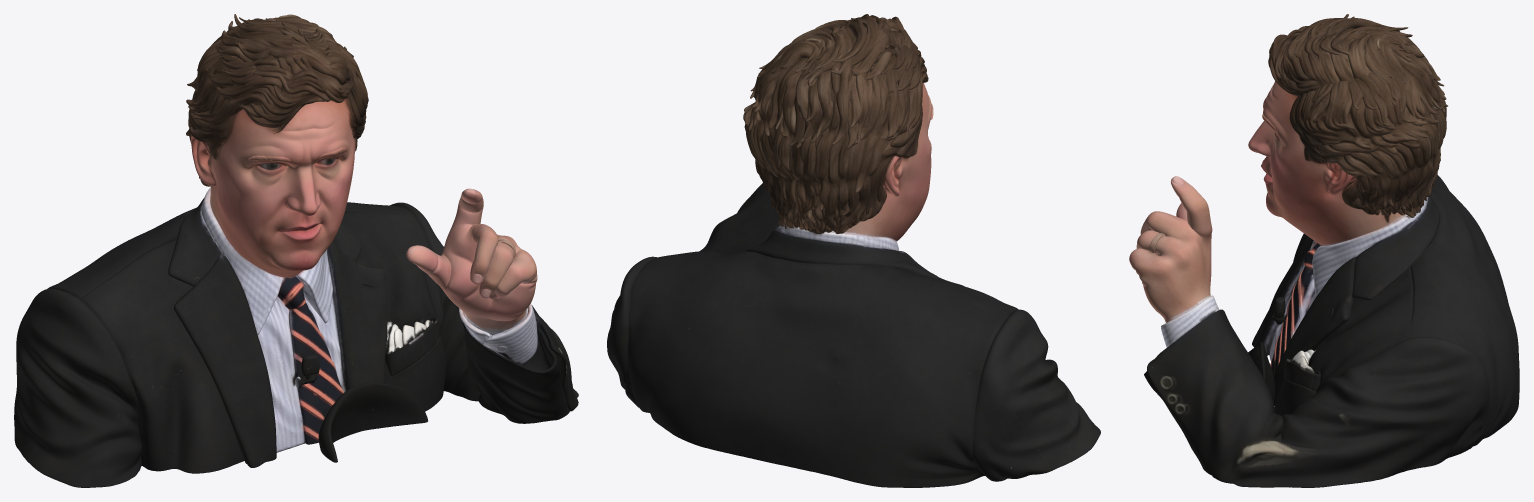
File: tucker-3.glb
3 views of the same model, side by side, from view 1: azimuth 30°, elevation 25°; view 2: azimuth 150°, elevation 25°; view 3: azimuth 270°, elevation 25° (orthographic). The views are drawn at different scales.
Size of the model in its own units: 2 by 1.52 by 1.51.
Materials: 1 (1 with a texture image).
